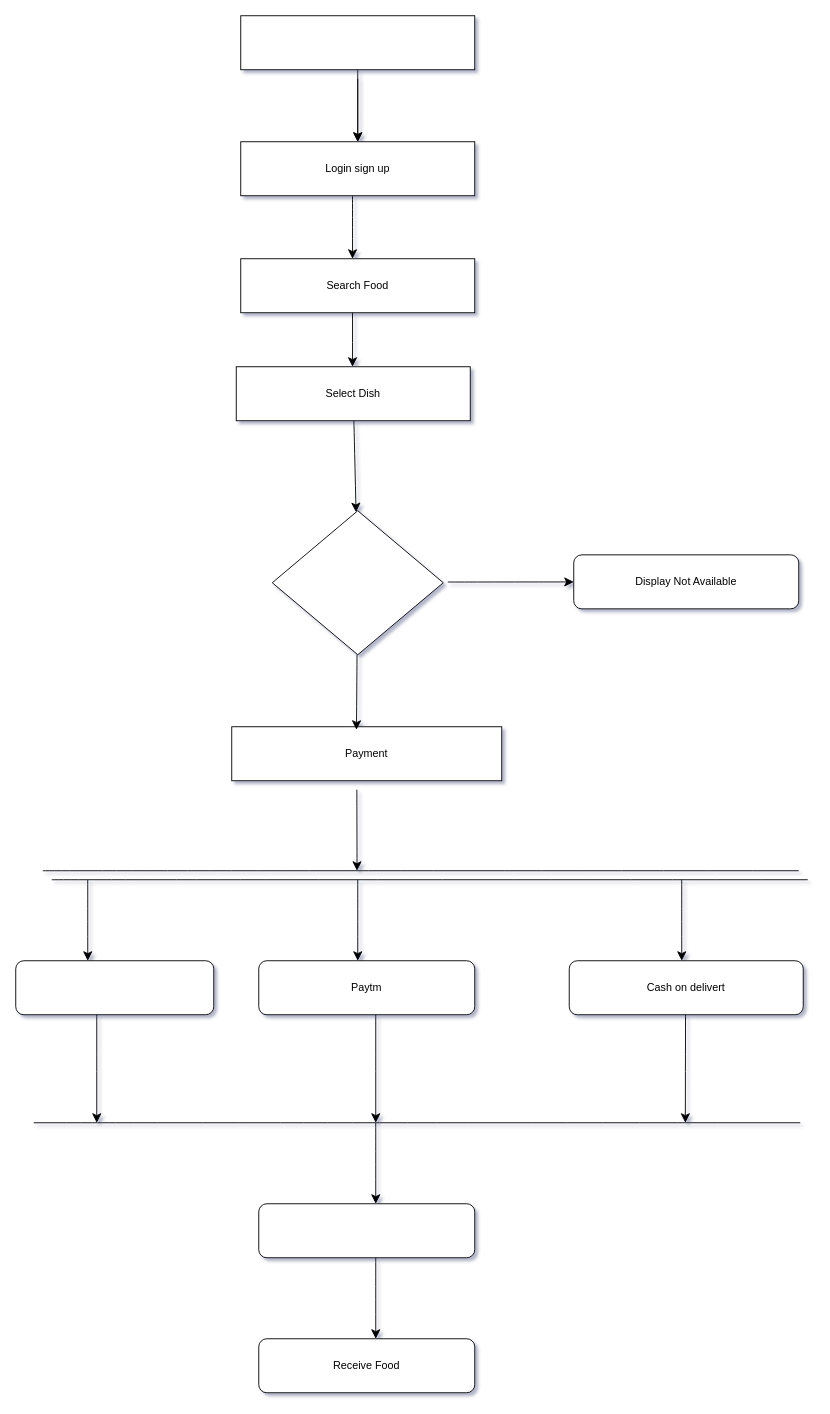
This 830x1414 diagram has some shape labels left out. The box of each missing label's shape, as (x1, y1, x2, y2) in pixels:
Check Status: (258, 1203, 475, 1258)
Debt card Credit card: (15, 960, 214, 1015)
Open App/website: (240, 15, 475, 70)
Place Order: (271, 510, 443, 655)
